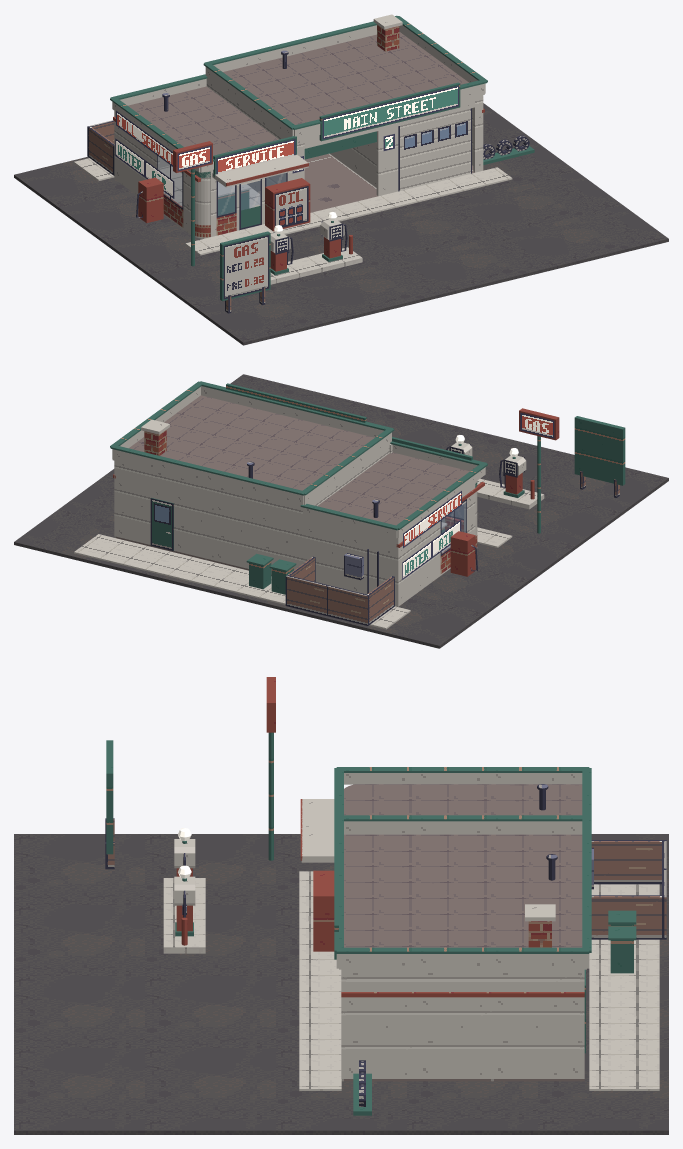
The model's file is main-street-service-station.glb.
3 renders of one model, top to bottom at view 1: azimuth 30°, elevation 25°; view 2: azimuth 150°, elevation 25°; view 3: azimuth 270°, elevation 25°, orthographic. The views are drawn at different scales.
Parts seen in each view (by area): view 1: lot__ground_asphalt, structure__roof_tar_membrane, structure__wall_porcelain_enamel, lot__ground_paving_and_floor, structure__trim_teal_enamel, structure__glow_period_signs_and_lamps, garage_door_closed__detail_period_equipment, structure__floor_service_concrete, structure__glass_office, roadside_price_board__detail_period_equipment, structure__wall_brick_base, oil_display__detail_period_equipment (+10 smaller); view 2: lot__ground_asphalt, structure__wall_porcelain_enamel, structure__roof_tar_membrane, lot__ground_paving_and_floor, structure__trim_teal_enamel, lot__detail_period_equipment, roadside_price_board__trim_teal_enamel, structure__detail_period_equipment, lot__trim_teal_enamel, air_water_station__trim_red_enamel, air_water_station__glow_period_signs_and_lamps, structure__glow_period_signs_and_lamps (+4 smaller); view 3: lot__ground_asphalt, structure__wall_porcelain_enamel, structure__roof_tar_membrane, lot__ground_paving_and_floor, structure__trim_teal_enamel, lot__detail_period_equipment, oil_display__trim_red_enamel, lot__trim_teal_enamel, structure__trim_red_enamel, roadside_price_board__trim_teal_enamel, roadside_fuel_sign__trim_teal_enamel, structure__floor_service_concrete.
Boxes of the visible parts, x1,y1,x2,y2 form: lot__ground_asphalt: (14,103,668,345); structure__roof_tar_membrane: (128,32,468,156); structure__wall_porcelain_enamel: (112,14,485,236); lot__ground_paving_and_floor: (74,158,512,284); structure__trim_teal_enamel: (110,15,487,215); structure__glow_period_signs_and_lamps: (116,85,458,174); garage_door_closed__detail_period_equipment: (398,108,471,191); structure__floor_service_concrete: (304,153,474,212); structure__glass_office: (157,155,287,230); roadside_price_board__detail_period_equipment: (223,235,269,313); structure__wall_brick_base: (163,24,399,237); oil_display__detail_period_equipment: (274,186,308,227); lot__ground_asphalt: (14,374,668,648); structure__wall_porcelain_enamel: (112,386,485,605); structure__roof_tar_membrane: (129,395,469,525); lot__ground_paving_and_floor: (74,478,544,629); structure__trim_teal_enamel: (110,381,487,550); lot__detail_period_equipment: (285,549,394,625); roadside_price_board__trim_teal_enamel: (574,416,625,485); structure__detail_period_equipment: (150,461,379,550); lot__trim_teal_enamel: (246,553,296,594); air_water_station__trim_red_enamel: (450,531,475,576); air_water_station__glow_period_signs_and_lamps: (402,519,461,579); structure__glow_period_signs_and_lamps: (403,491,461,548); lot__ground_asphalt: (14,834,668,1134); structure__wall_porcelain_enamel: (301,773,589,1078); structure__roof_tar_membrane: (344,784,582,947); lot__ground_paving_and_floor: (163,871,659,1090); structure__trim_teal_enamel: (334,767,591,1053); lot__detail_period_equipment: (591,840,666,939); oil_display__trim_red_enamel: (313,870,334,951); lot__trim_teal_enamel: (608,910,636,973); structure__trim_red_enamel: (300,799,584,997); roadside_price_board__trim_teal_enamel: (106,740,113,854); roadside_fuel_sign__trim_teal_enamel: (268,732,273,860); structure__floor_service_concrete: (341,1079,584,1081).
Size of what is drawn, in the model's own units: 23.28 by 6.44 by 21.73.
12 materials, 12 textured.
